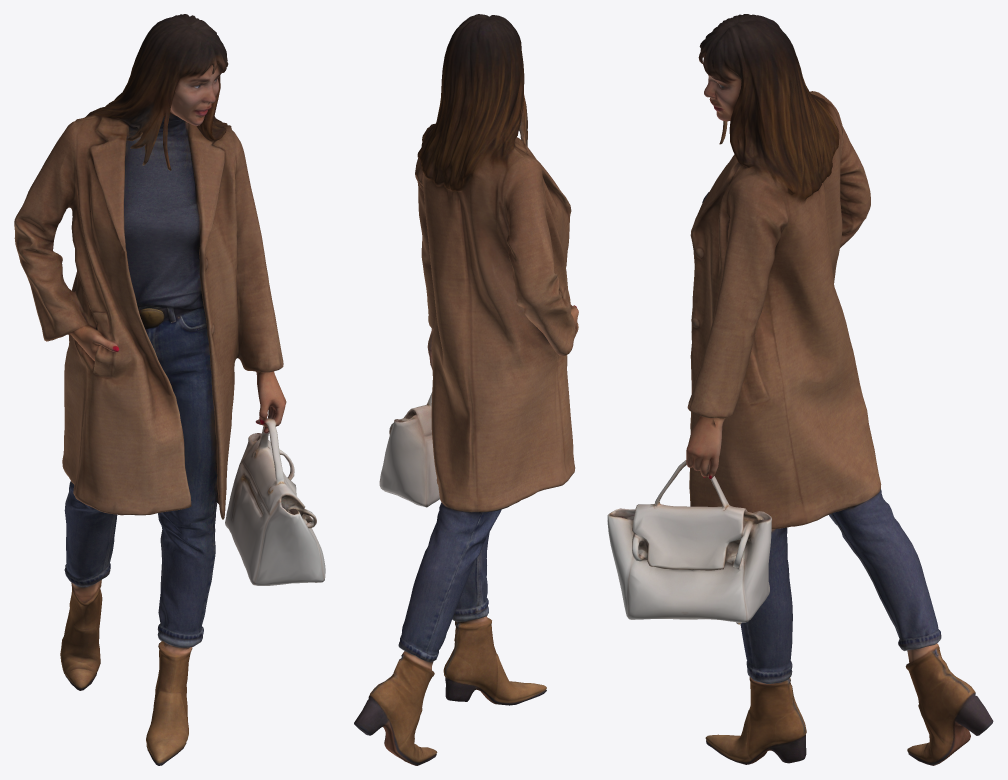
File: character.glb
The picture shows the model from 3 angles, left to right: view 1: azimuth 30°, elevation 25°; view 2: azimuth 150°, elevation 25°; view 3: azimuth 270°, elevation 25°; orthographic projection. The views are drawn at different scales.
Visible parts, largest first — view 1: Default_Mat_0; view 2: Default_Mat_0; view 3: Default_Mat_0.
Boxes of the visible parts, x1,y1,x2,y2 form: Default_Mat_0: (14,14,325,765); Default_Mat_0: (354,14,578,765); Default_Mat_0: (607,14,993,765).
Bounding box in the file's own units: 5.97 × 17.53 × 8.2.
Materials: 1 (1 with a texture image).
